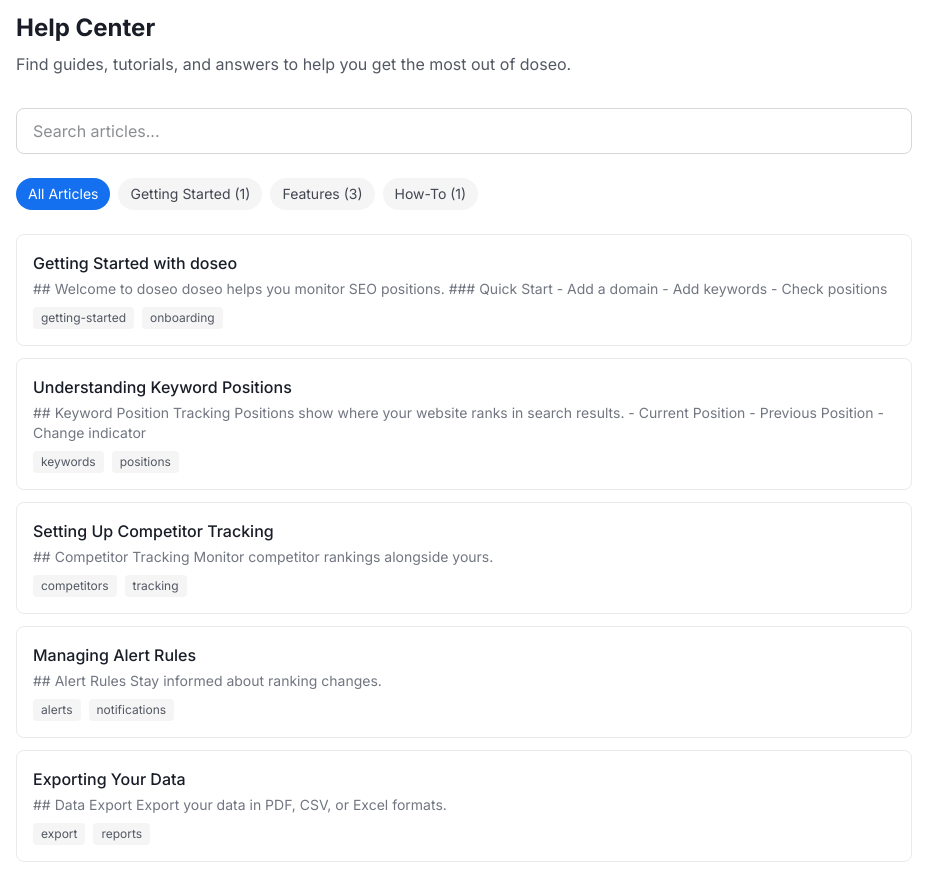
Test: KnowledgeBase › renders article detail with markdown content when clicked
Click on the first article
Click the button with test id "kb-article-getting-started-with-doseo": [464, 290] box [16,234,912,346]
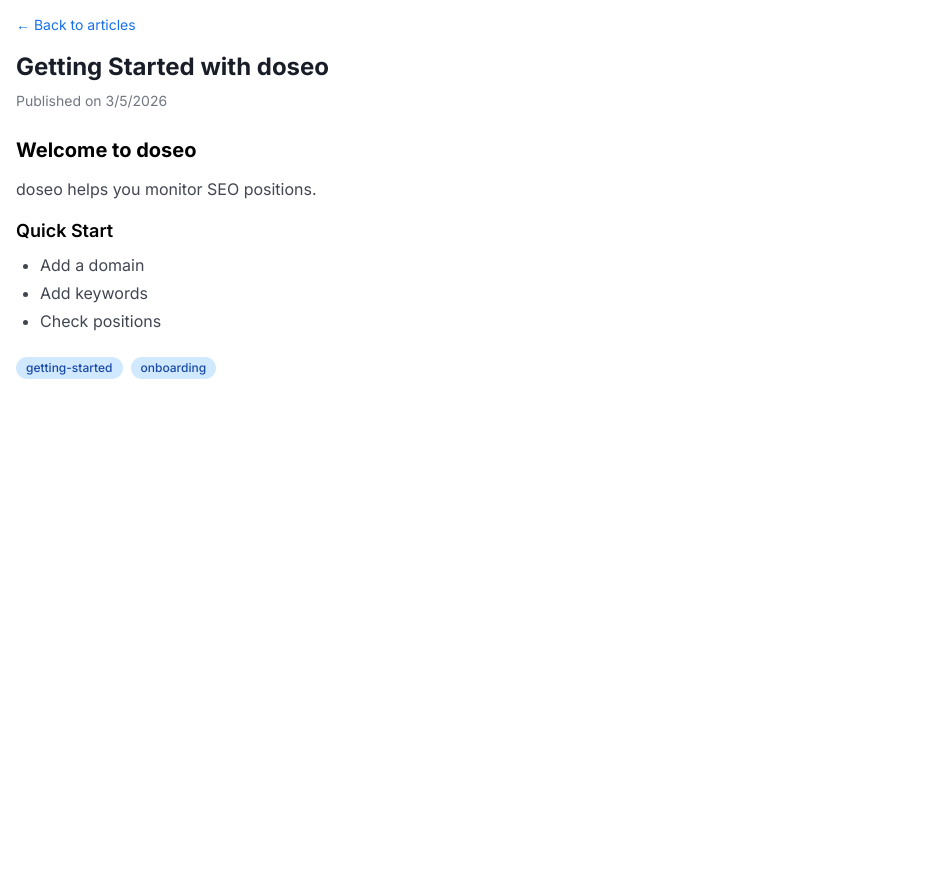
Expected: the element with test id "kb-article-detail" is shown, [16,15,329,379]
Expected: the element with test id "kb-article-content" is shown, [16,138,317,331]
Expected: the button with test id "kb-back-btn" is shown, [16,15,136,35]
